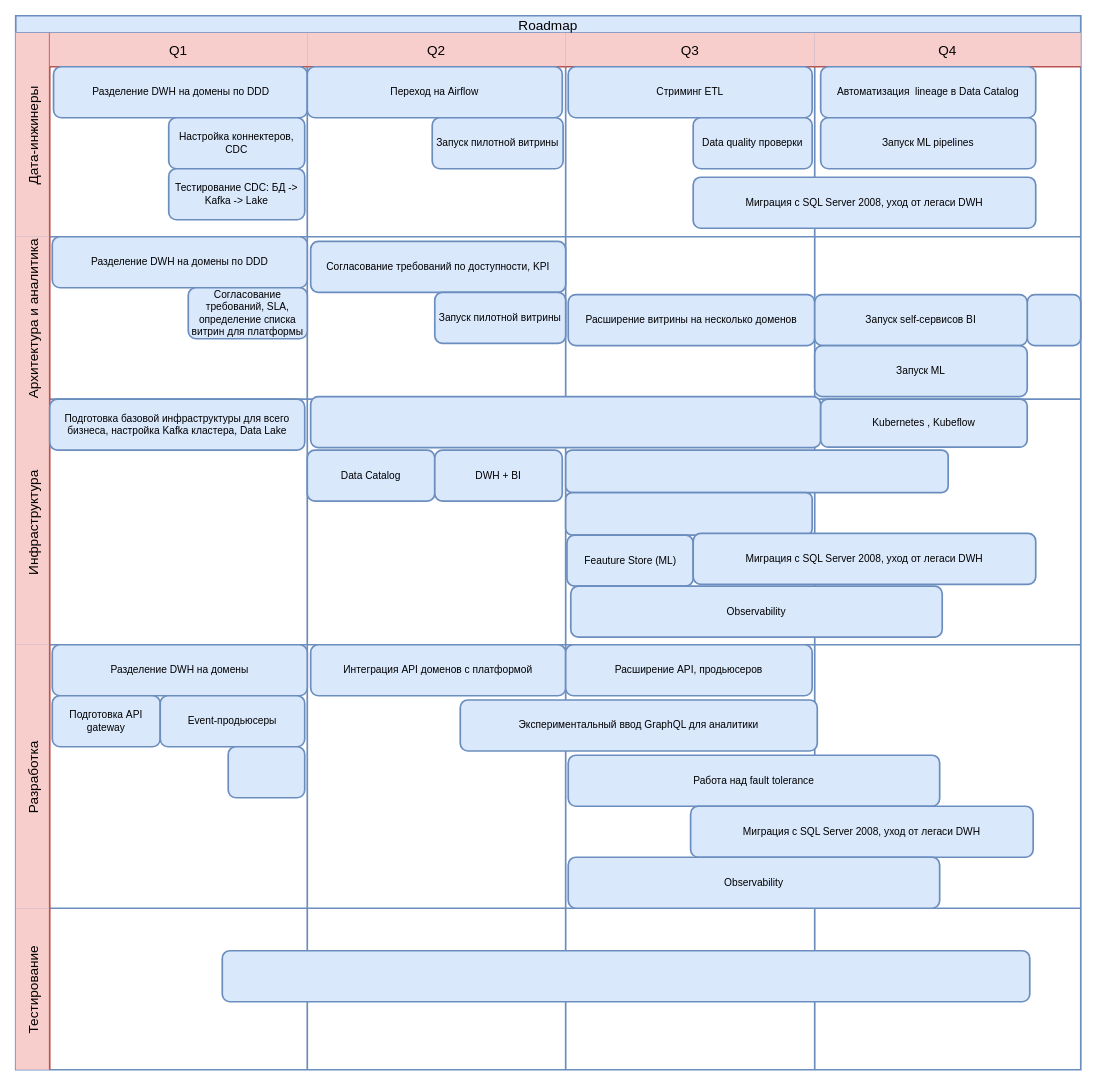
The diagram is 1098 pixels wide and 1085 high, and some of its shapes have lost their labels. Each missing label, with the centre of its shape:
"Data governance, безопасность" goes at point 756,471.
"Подготовка и сопровождение инфраструктуры отдельных доменов" goes at point 565,421.
"Пробная интеграция с Kafka" goes at point 266,771.
"Проверка результатов, итоги" goes at point 1053,319.
"Расширение Data Lake" goes at point 688,513.
"Тестирование функционала" goes at point 625,975.
